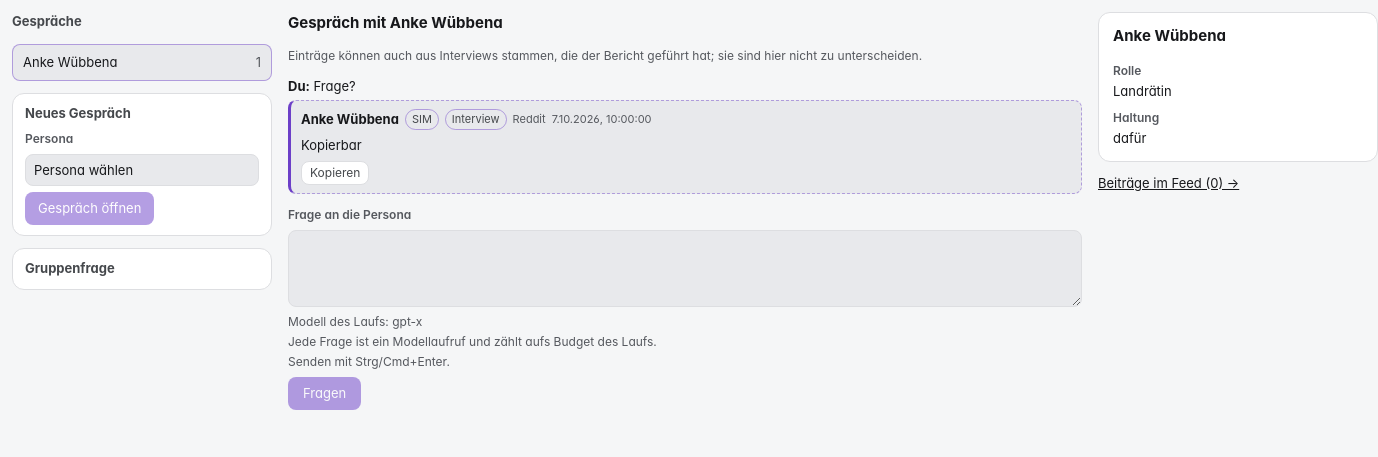
Scenario: RunInterviewsView › Antwort lässt sich kopieren
Click the button with test id "turn-copy": click(335, 173) x1=301 y1=161 x2=369 y2=185
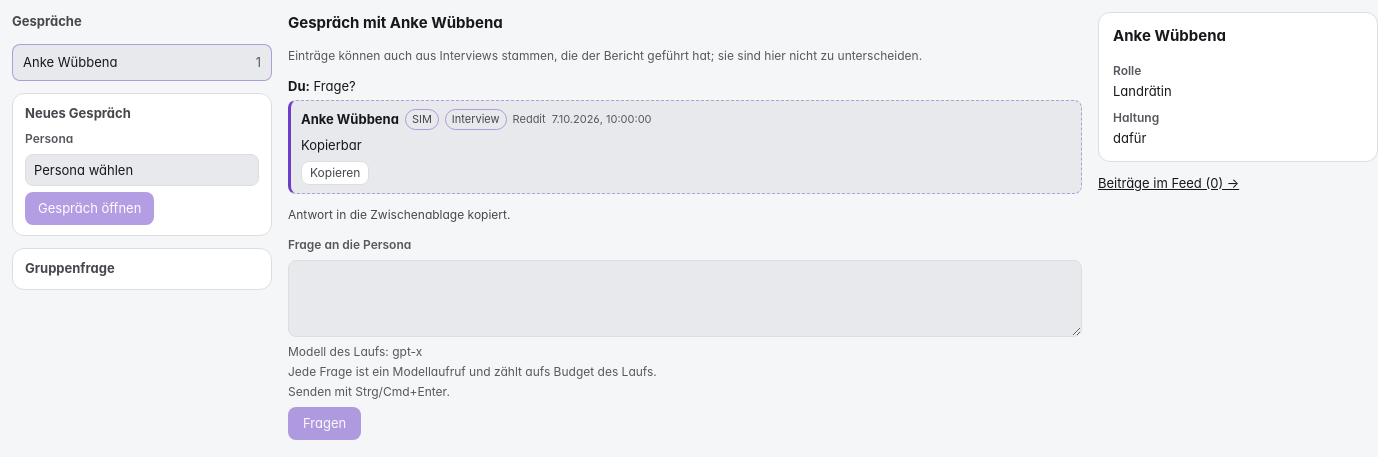
Expected: the message with test id "copy-status" shows "kopiert", x1=288 y1=207 x2=510 y2=222
